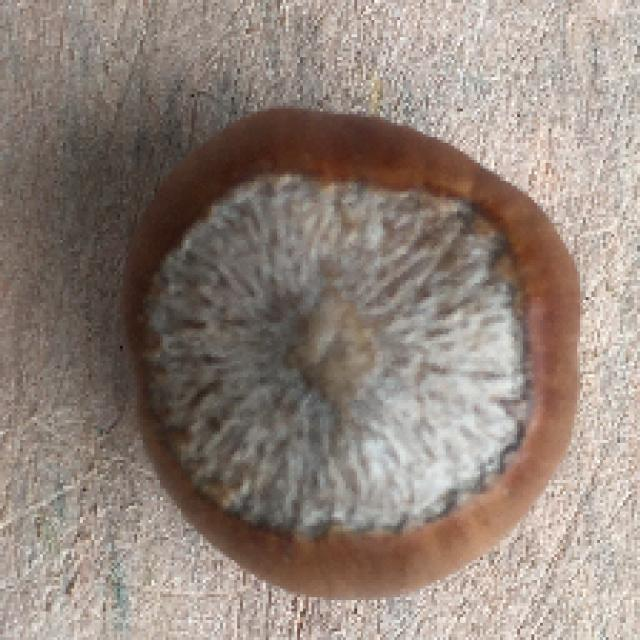DamagedHazelnut: (120, 107, 578, 597)
